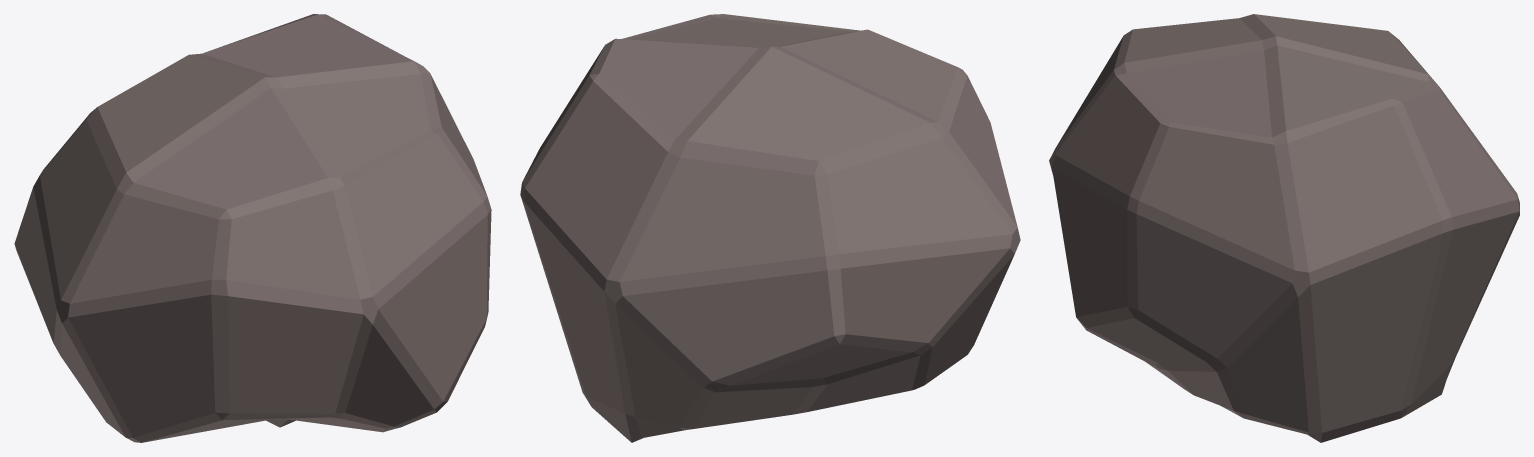
Rendered from LargeRock.fbx.
The picture shows the model from 3 angles, left to right: view 1: azimuth 30°, elevation 25°; view 2: azimuth 150°, elevation 25°; view 3: azimuth 270°, elevation 25°; orthographic projection. The views are drawn at different scales.
Visible parts, largest first — view 1: RockLarge; view 2: RockLarge; view 3: RockLarge.
Part boxes in pixels (bbox=[...]): RockLarge: bbox=[14, 14, 491, 442]; RockLarge: bbox=[520, 14, 1020, 442]; RockLarge: bbox=[1049, 14, 1519, 442].
Size of the model in its own units: 260 by 198 by 252.
